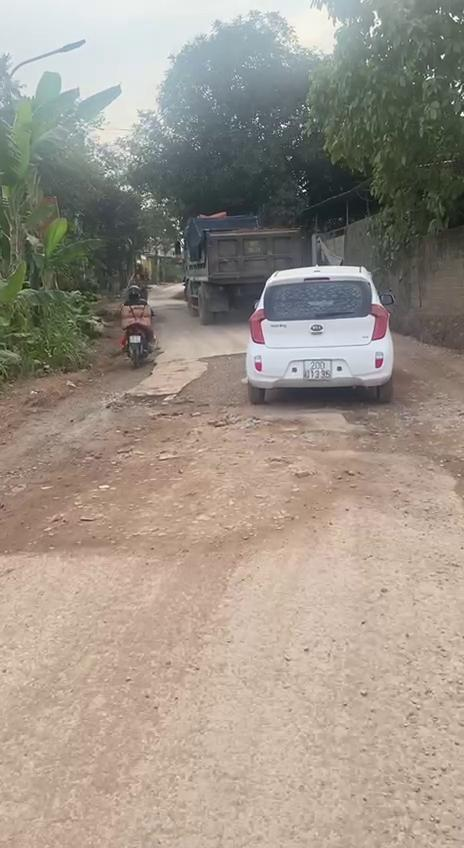pothole: (0, 414, 318, 556), (278, 397, 464, 489), (104, 349, 258, 425)
